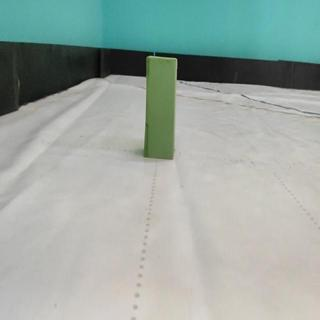greenbox: (145, 55, 179, 160)
